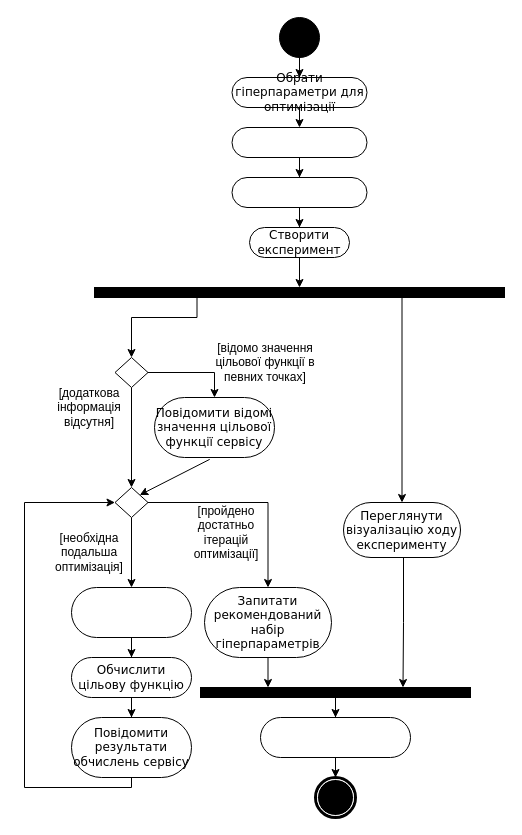
The diagram is 522 pixels wide and 835 high, and some of its shapes have lost their labels. The shapes that lost their labels are listed below. From the top down, each one's box as (x1, y1, x2, y2) in pixels, then its label:
(231, 126, 367, 158): Задати обмеження на гіперпараметри
(231, 176, 367, 208): Обрати алгоритм оптимізації
(70, 586, 192, 638): Запитати наступну точку
(260, 716, 410, 758): Видалити експеримент
